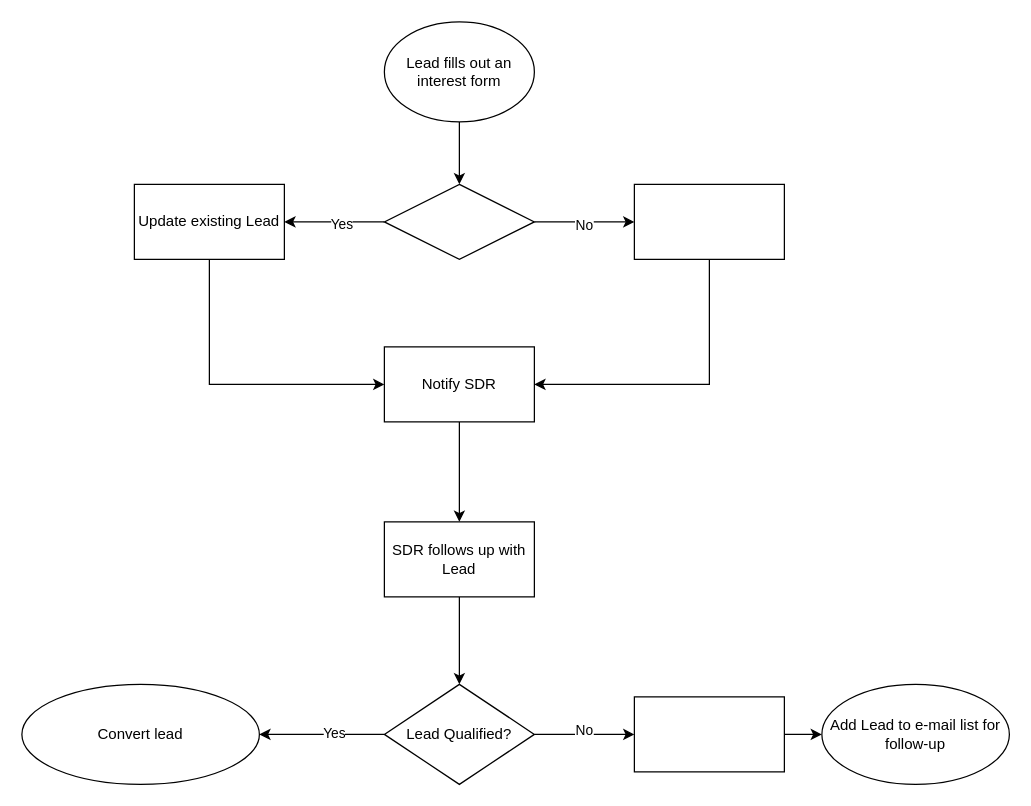
Image size: 1031x806. Some labels were removed from this diagram. Here are the shapes that lost their labels. From the top down, the centre of each, then its label:
At (x=458, y=221): "Lead Exists?".
At (x=708, y=221): "Create New Lead".
At (x=708, y=734): "Mark Lead as cold".
